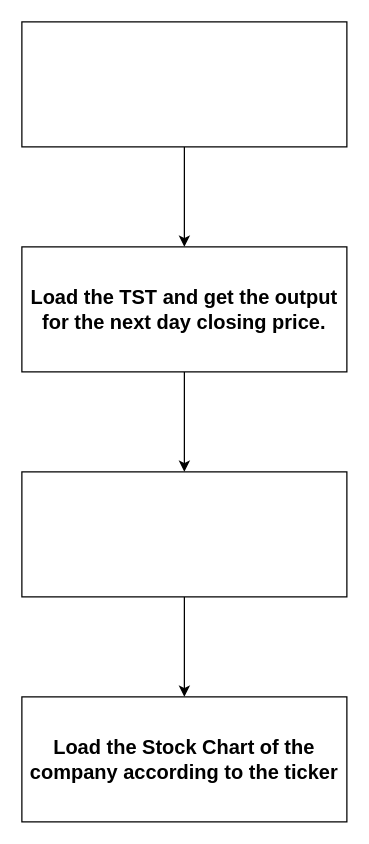
The diagram is 369 pixels wide and 844 high, and some of its shapes have lost their labels. Here are the shapes that lost their labels. From the top down, the box of each, then its label:
(21, 21, 347, 147): Fetch the 128 according to the Ticker GOOG,TSLA,
(21, 471, 347, 597): Feed the input to LLM and get the financial advice.
